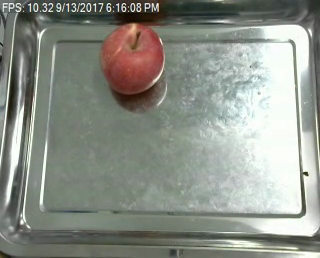Apple: (99, 22, 165, 95)
